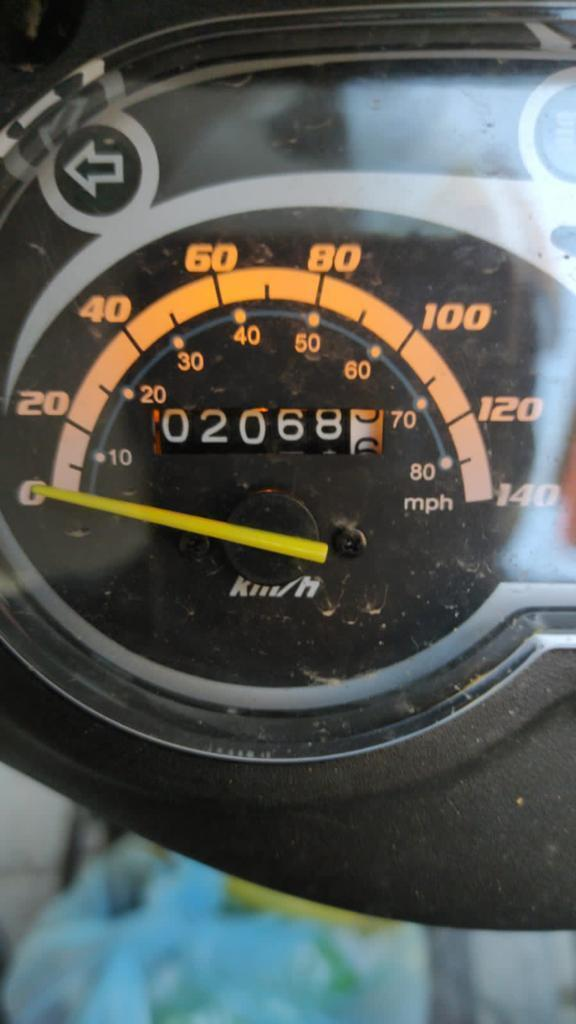0: (160, 407, 190, 444), (238, 408, 266, 445)
2: (199, 407, 229, 444)
6: (276, 406, 304, 442), (354, 436, 380, 467)
8: (314, 404, 343, 441)
odometer: (147, 402, 389, 458)
